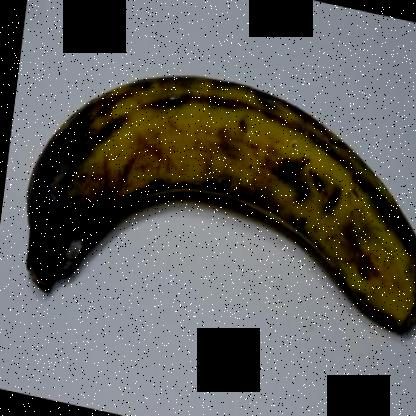overripe: (10, 51, 415, 390)
rotten: (16, 102, 133, 296)
